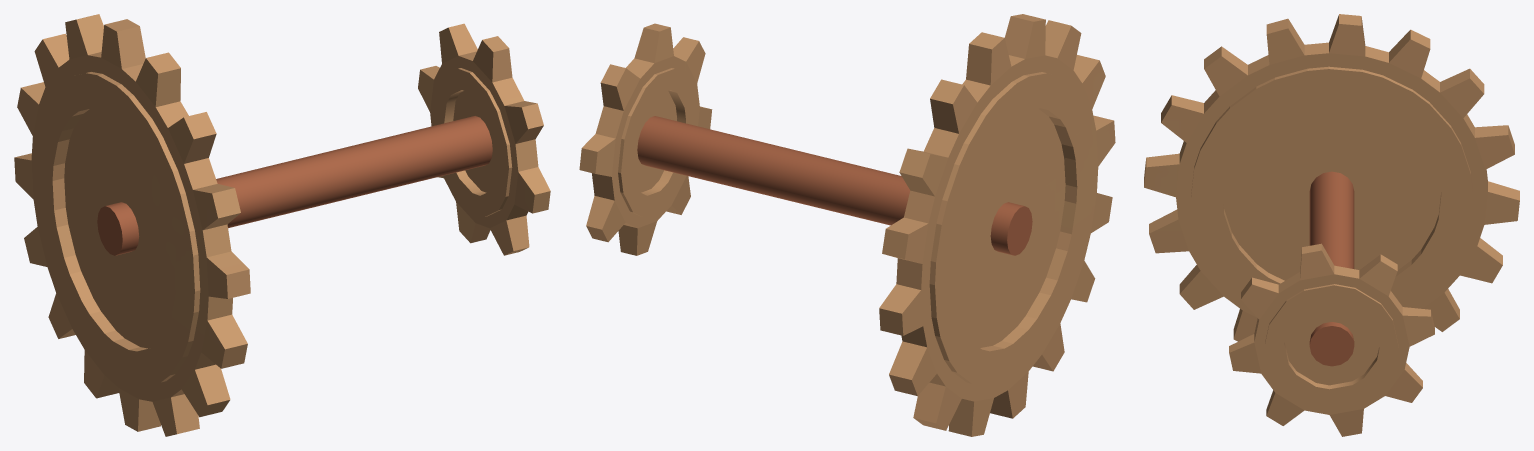
The model's file is Drill_axle.fbx.
3 views of the same model, side by side, from view 1: azimuth 30°, elevation 25°; view 2: azimuth 150°, elevation 25°; view 3: azimuth 270°, elevation 25° (orthographic). The views are drawn at different scales.
Visible parts, largest first — view 1: Drill_axle; view 2: Drill_axle; view 3: Drill_axle.
Part boxes in pixels (x1,y1,x2,y2): Drill_axle: (14, 14, 550, 436); Drill_axle: (579, 14, 1115, 436); Drill_axle: (1144, 14, 1519, 436).
Bounding box in the file's own units: 252 × 241 × 241.
